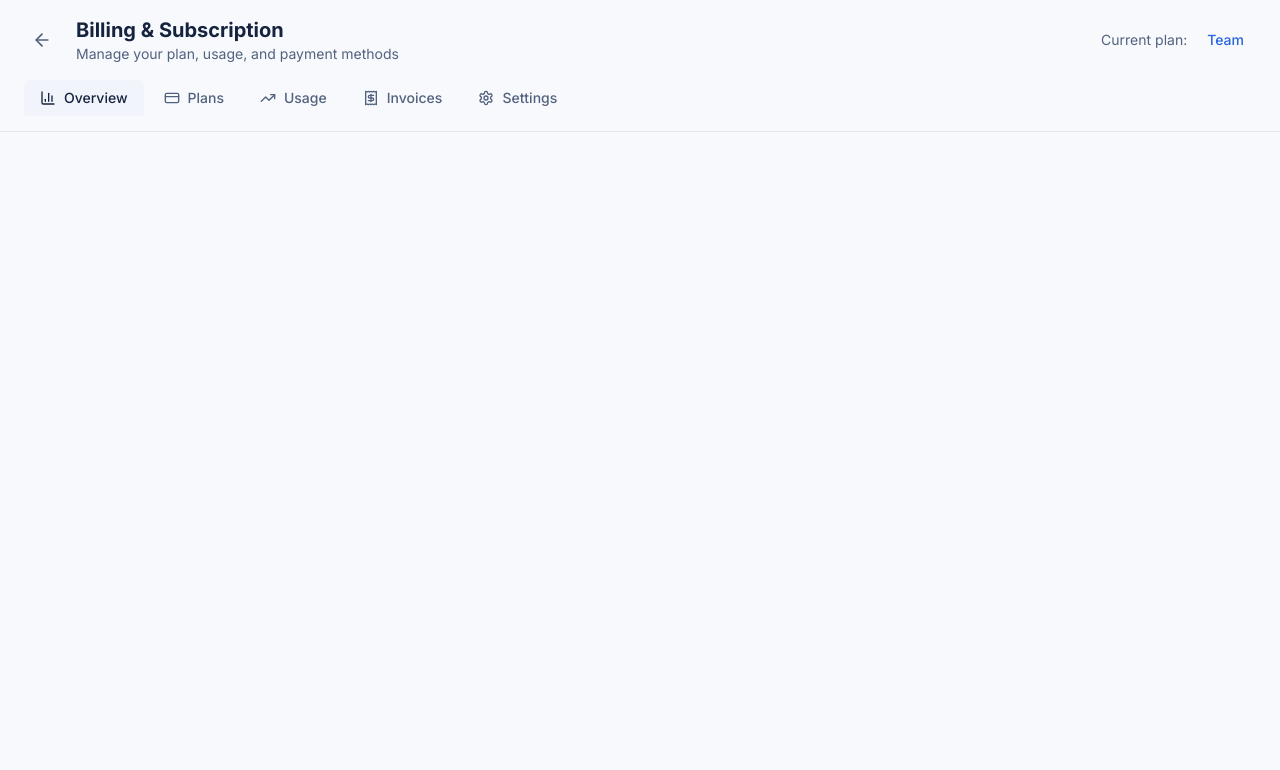
Scenario: Billing plan limits and savings › does not advertise 999999 users on the uncapped plan
Click the button "Plans".
click(194, 98)  # box [148,80,240,116]
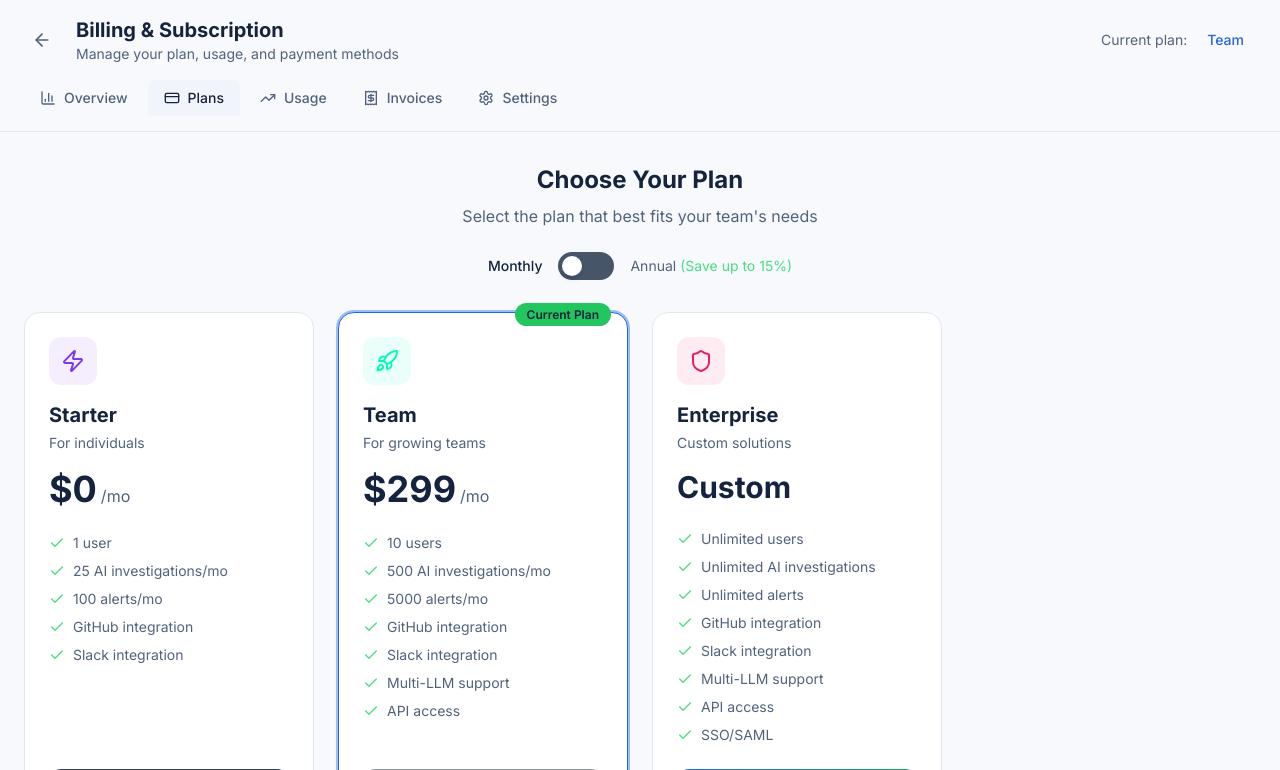
Now the text "Unlimited users" is shown, box [701,529,804,549]
